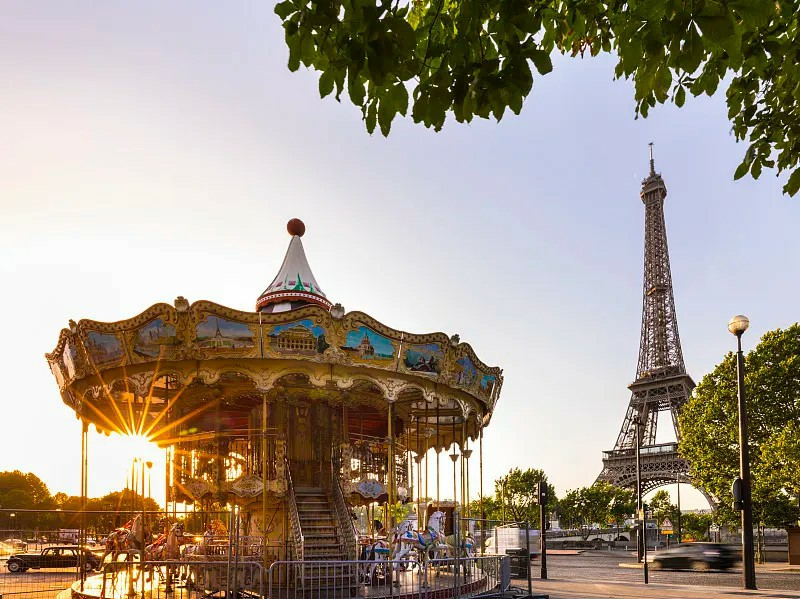Eiffel: (590, 143, 719, 513)
